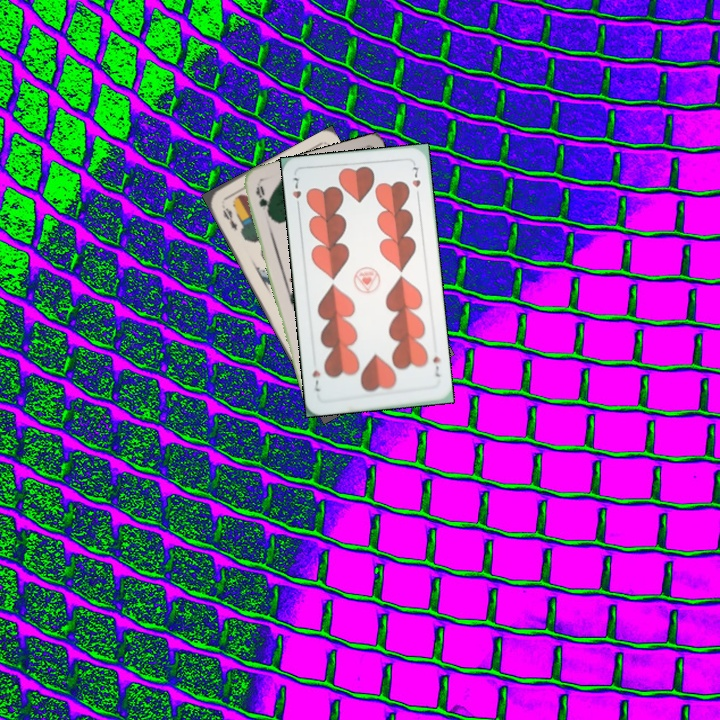EO: (219, 203, 240, 233)
GO: (252, 182, 274, 220)
H7: (288, 172, 304, 212), (429, 352, 443, 380)
